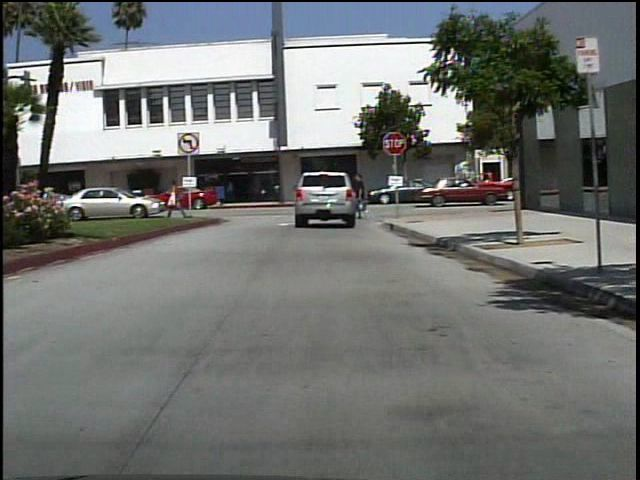person: (162, 174, 190, 220), (357, 171, 374, 225), (223, 177, 239, 205)
